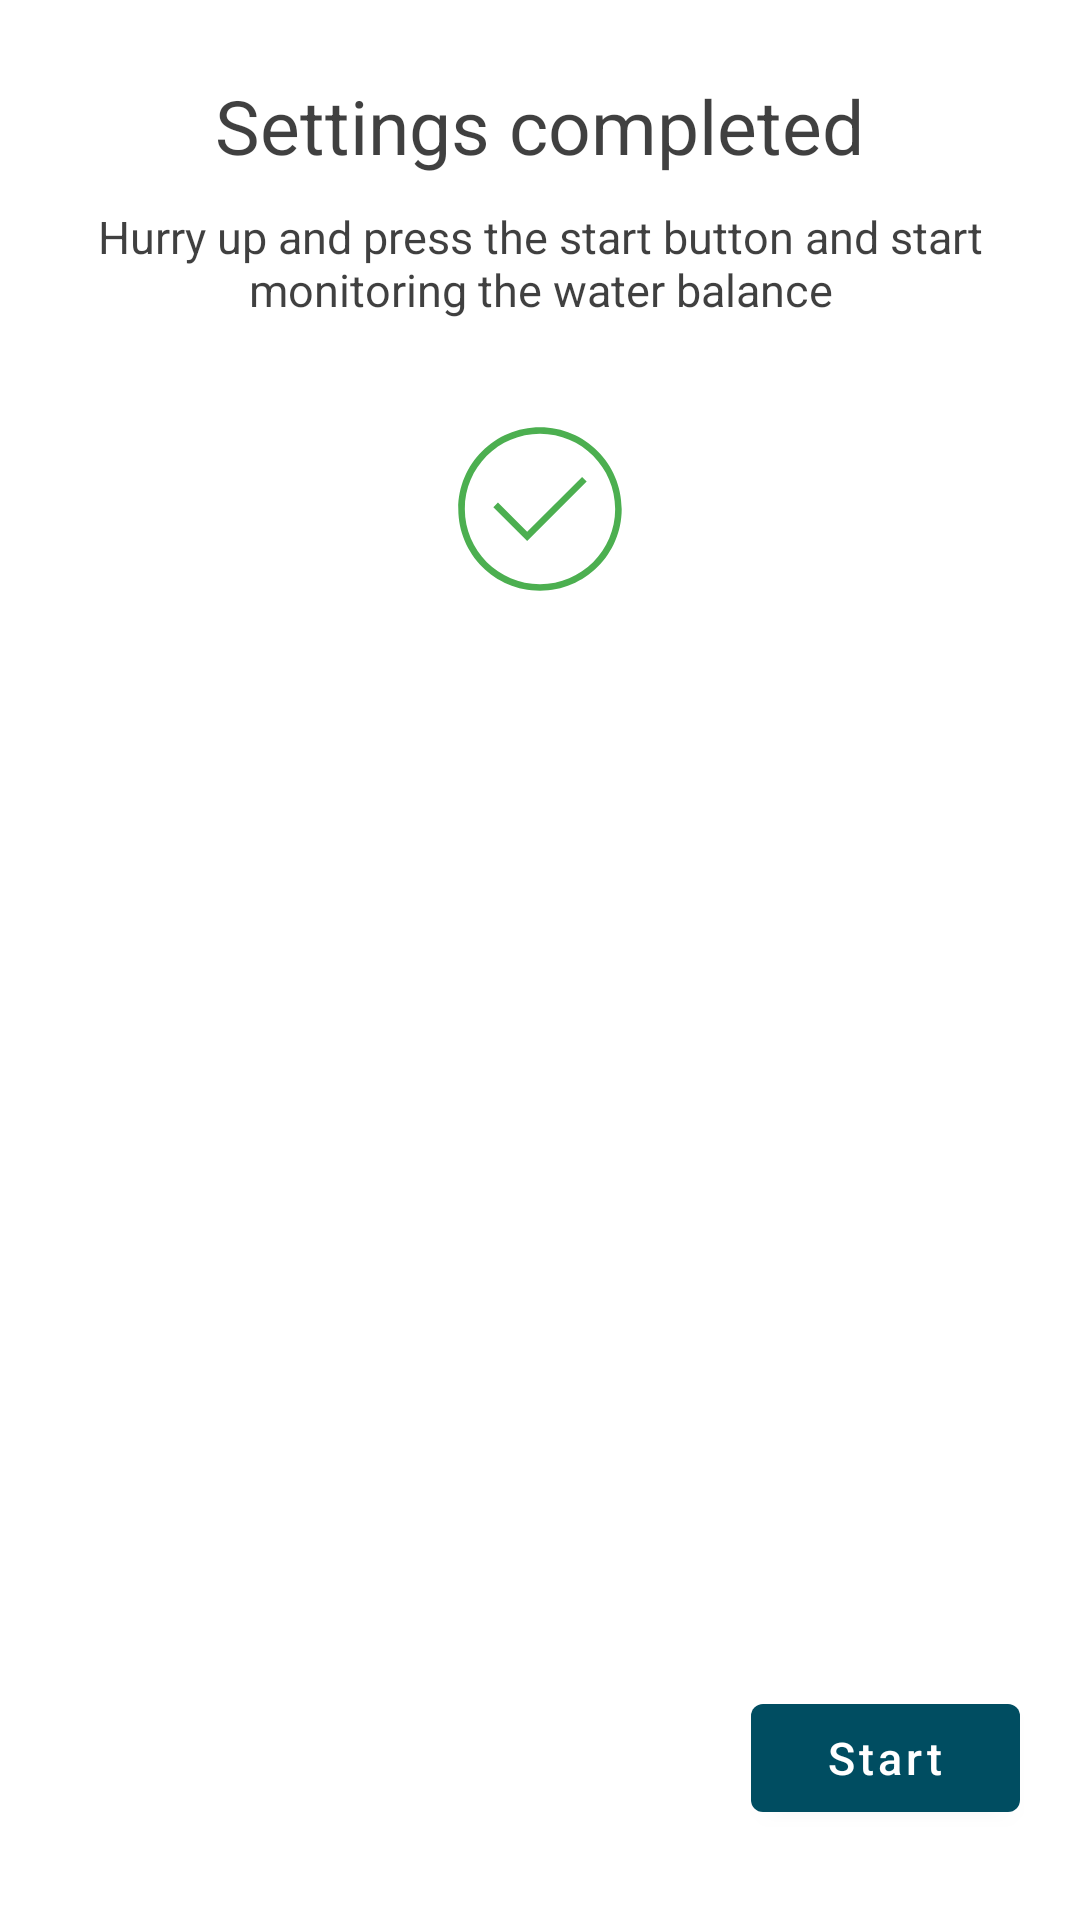

Point at icon controls on the screen. Image size 1080×1920, points as [x,y].
Settings completed: [540,509]
